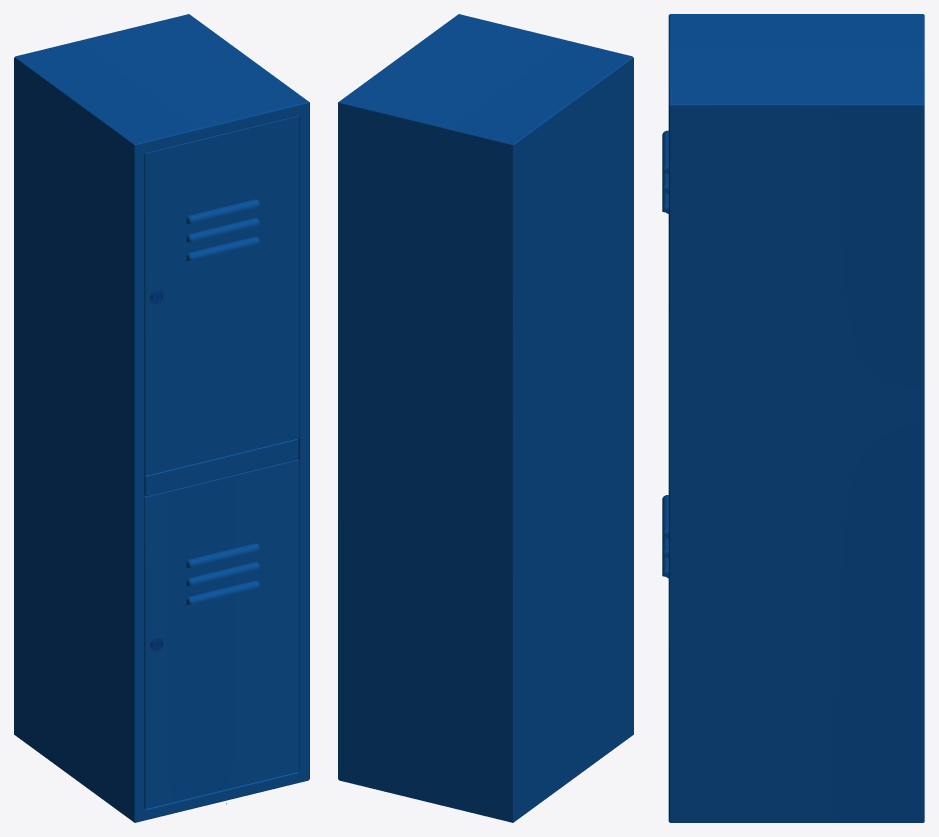
The model's file is SM_Locker_Open_V2_Blue.fbx.
3 views of the same model, side by side, from view 1: azimuth 30°, elevation 25°; view 2: azimuth 150°, elevation 25°; view 3: azimuth 270°, elevation 25° (orthographic). The views are drawn at different scales.
Parts seen in each view (by area): view 1: SM_Locker_Open_V2_Blue, SM_Locker_DoorTop_V2_Blue, SM_Locker_DoorBottom_V2_Blue; view 2: SM_Locker_Open_V2_Blue; view 3: SM_Locker_Open_V2_Blue, SM_Locker_DoorTop_V2_Blue, SM_Locker_DoorBottom_V2_Blue.
Boxes of the visible parts, box(x1,y1,x2,y2) form: SM_Locker_Open_V2_Blue: box(14, 14, 309, 822); SM_Locker_DoorTop_V2_Blue: box(144, 115, 299, 475); SM_Locker_DoorBottom_V2_Blue: box(144, 459, 299, 808); SM_Locker_Open_V2_Blue: box(338, 14, 633, 822); SM_Locker_Open_V2_Blue: box(668, 14, 924, 822); SM_Locker_DoorTop_V2_Blue: box(662, 130, 668, 213); SM_Locker_DoorBottom_V2_Blue: box(662, 495, 668, 578).
Size of the model in its own units: 58.47 by 217 by 71.27.
